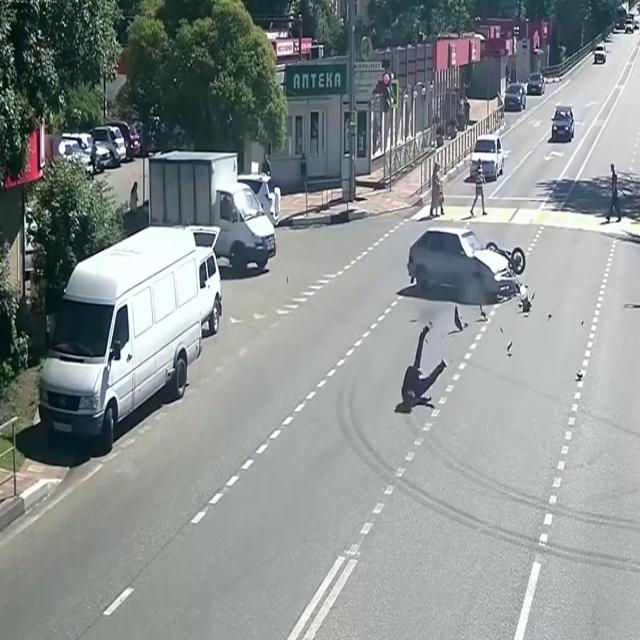accident: (404, 216, 532, 318)
non_accident: (31, 116, 285, 468)
